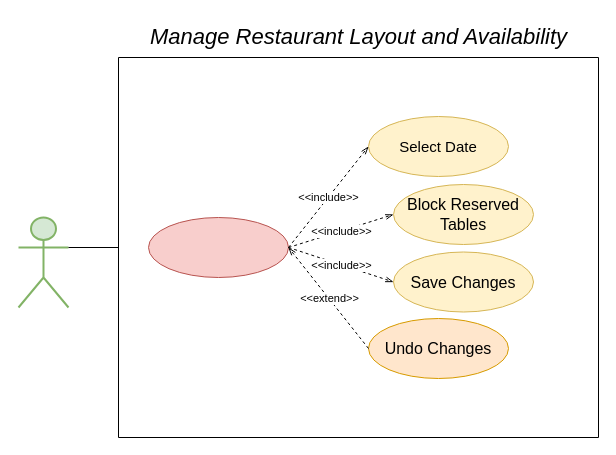
The diagram is 616 pixels wide and 455 high, and some of its shapes have lost their labels. Each missing label, with the box of its shape:
Admin: (17, 216, 69, 308)
Manage Layout and Availability: (148, 216, 288, 278)
